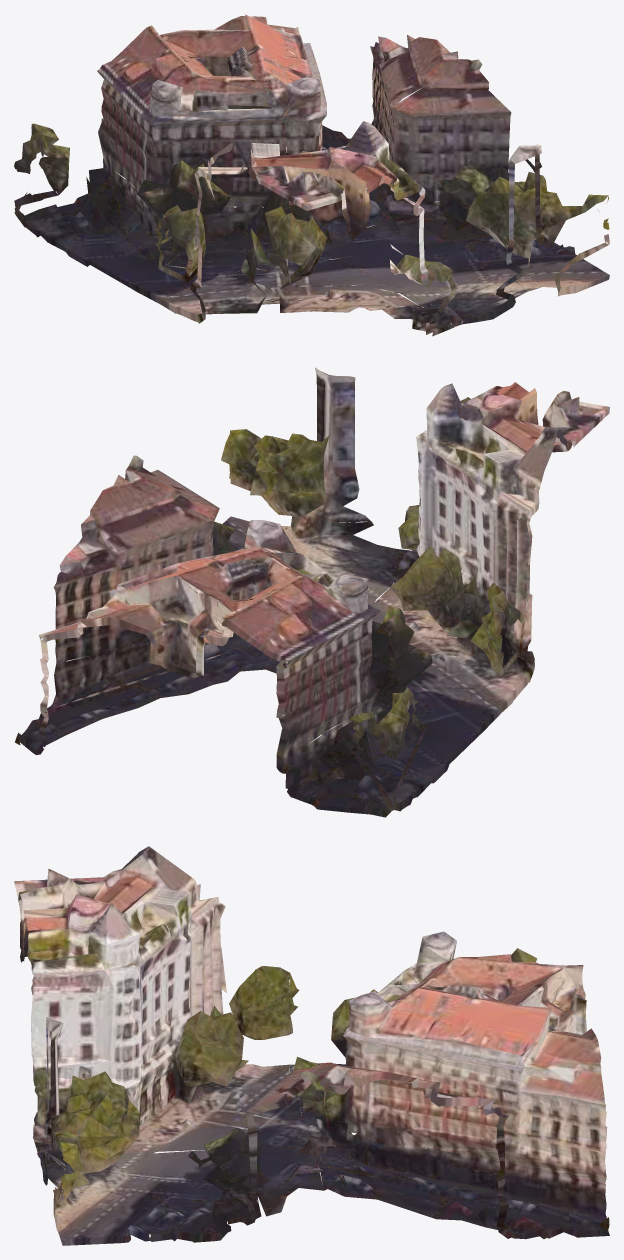
3 views of the same model, one above another, from view 1: azimuth 30°, elevation 25°; view 2: azimuth 150°, elevation 25°; view 3: azimuth 270°, elevation 25° (orthographic). The views are drawn at different scales.
Parts seen in each view (by area): view 1: Mesh_0; view 2: Mesh_0; view 3: Mesh_0.
Part boxes in pixels (box(x1,y1,x2,y2)): Mesh_0: box(14, 14, 609, 336); Mesh_0: box(15, 367, 609, 817); Mesh_0: box(14, 846, 609, 1245).
Size of the model in its own units: 66.62 by 36.99 by 82.56.
Materials: 1 (1 with a texture image).
